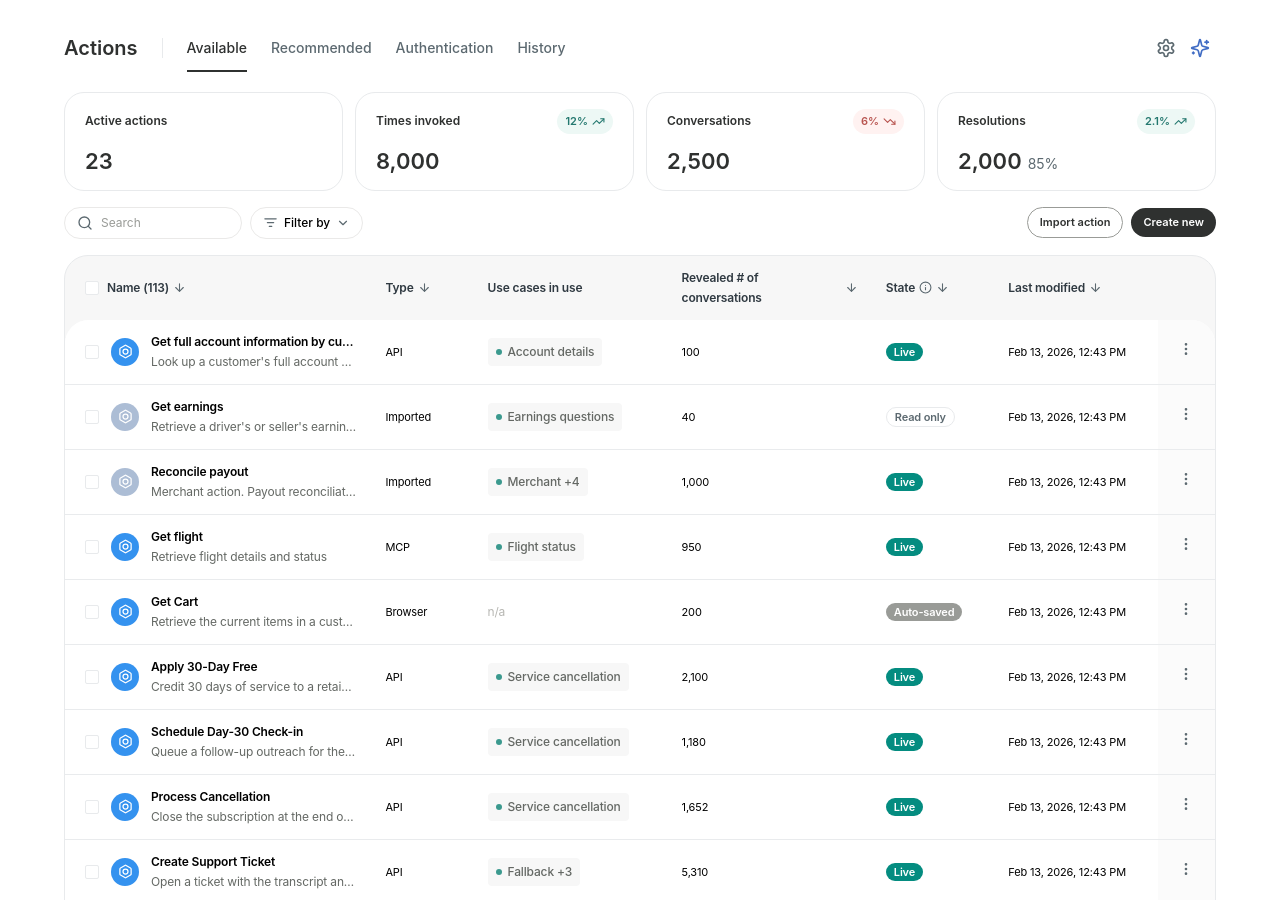
ToolsScreen › switches to an empty placeholder tab for Recommended
Click the tab "Recommended". click: (321, 54)
box: [271,36,372,72]
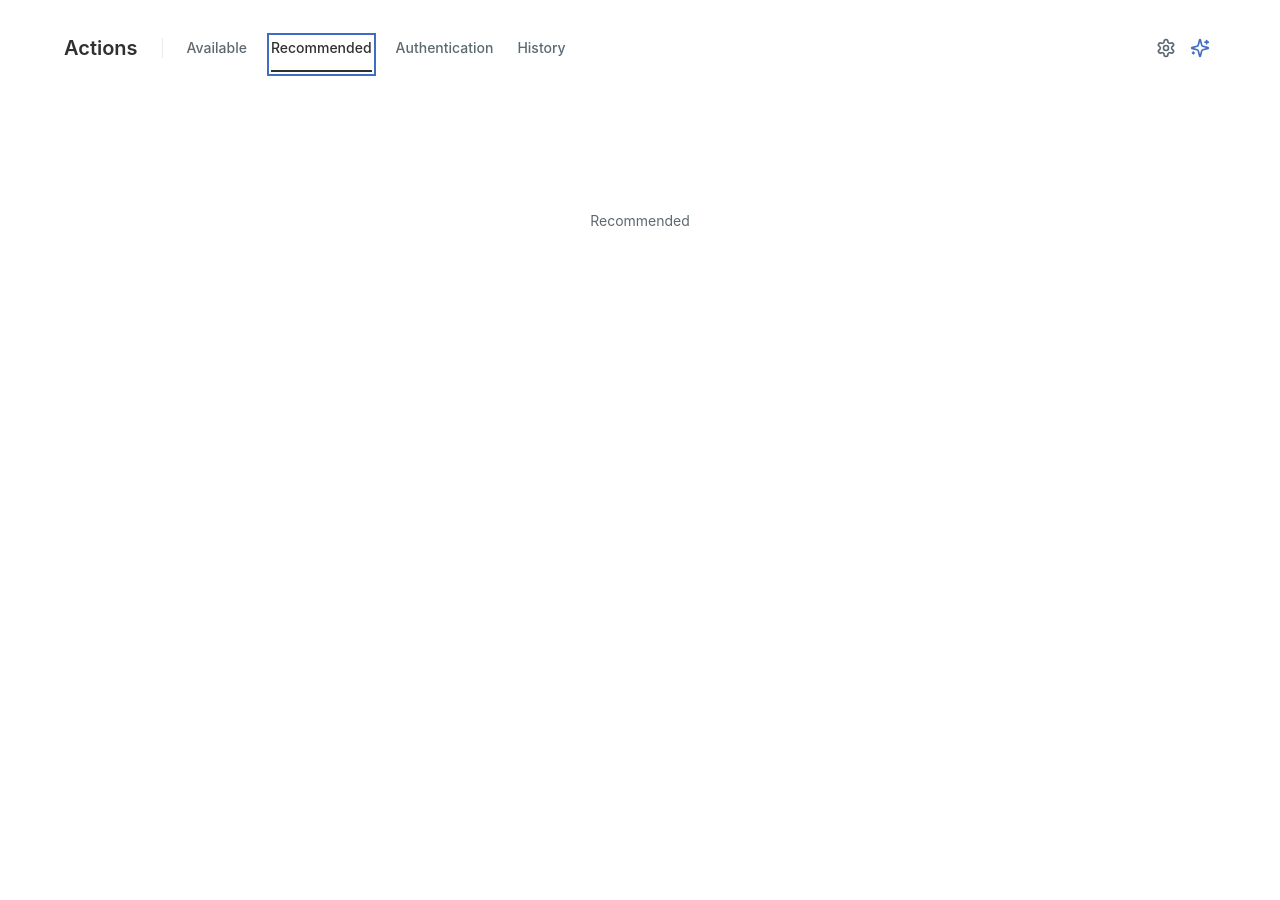
expect the text "Name (113)" is gone: met
expect the text "Recommended" is shown: met, box [590,212,690,228]
